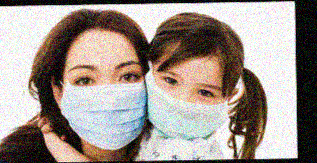with_mask: (62, 59, 146, 152), (143, 67, 231, 137)
